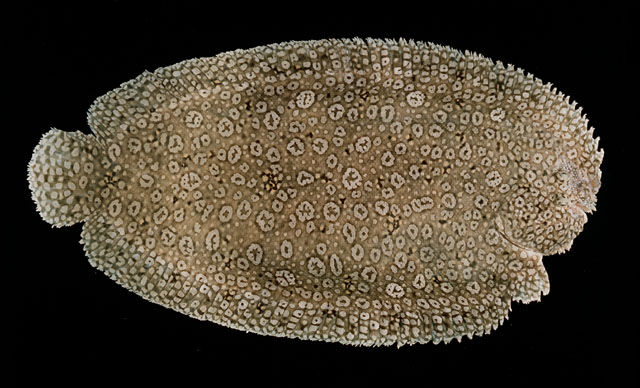fish: (26, 39, 604, 348)
